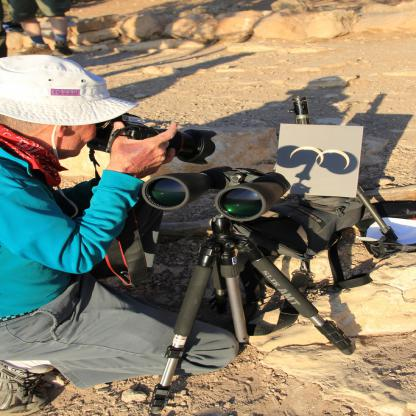Camera: (134, 164, 296, 228), (103, 120, 216, 161)
